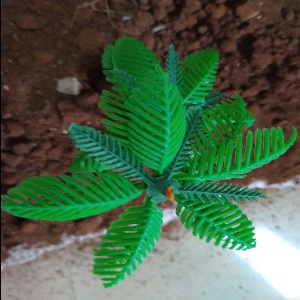plant: (30, 74, 258, 257)
